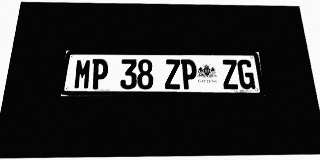3: (120, 59, 137, 89)
8: (137, 59, 153, 89)
G: (237, 60, 256, 89)
M: (73, 59, 92, 89)
P: (90, 59, 109, 89), (181, 59, 198, 89)
Z: (221, 60, 239, 89), (165, 59, 181, 89)
